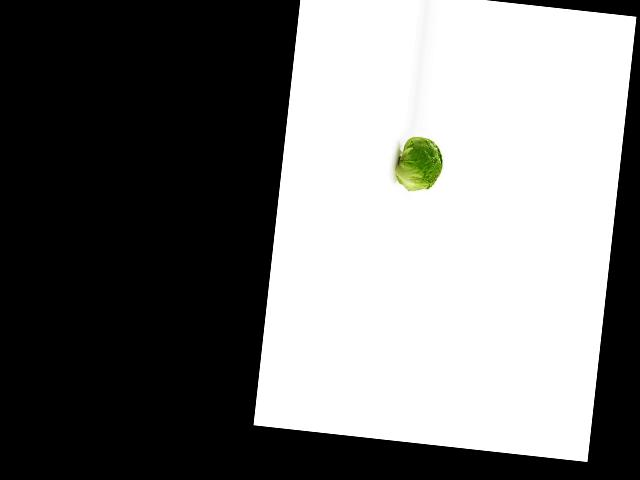lettuce: (396, 128, 447, 194)
